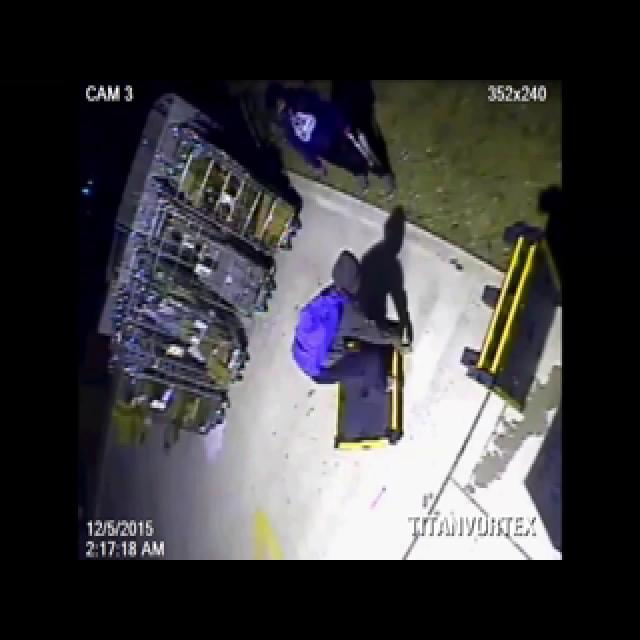vandalism: (331, 200, 458, 543)
